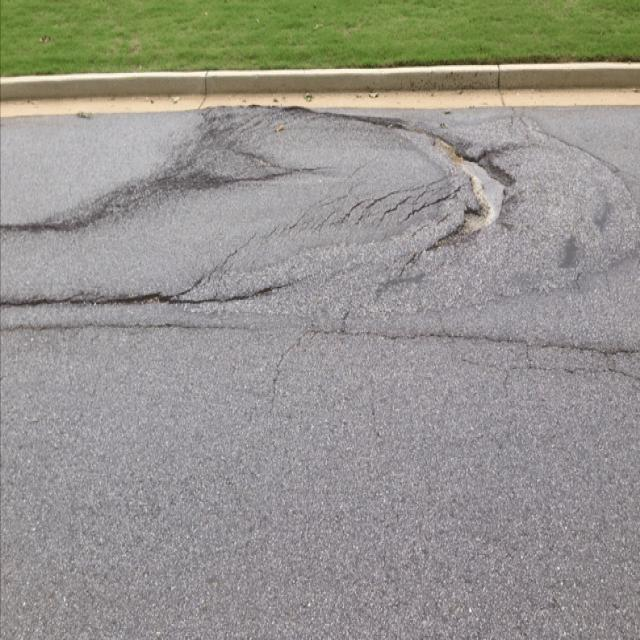Pothole: (10, 73, 640, 263)
